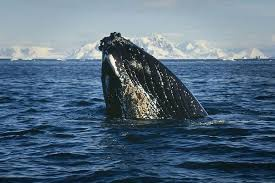humpback: (98, 31, 209, 119)
